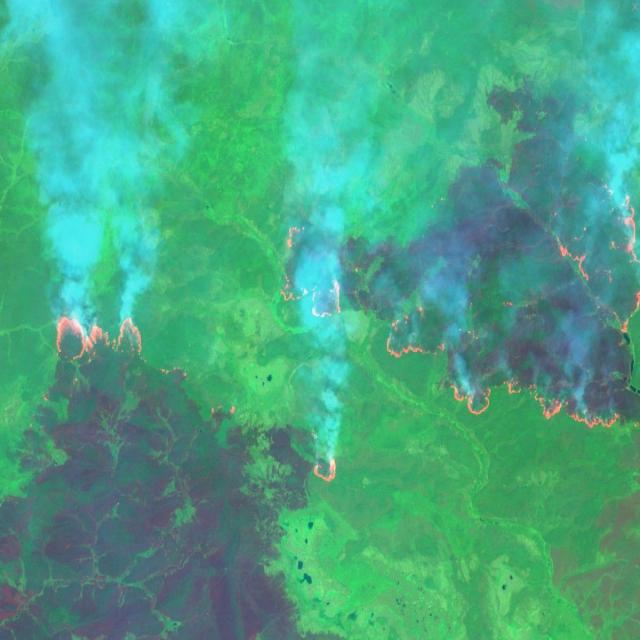fire: (269, 181, 640, 490), (40, 295, 156, 382)
